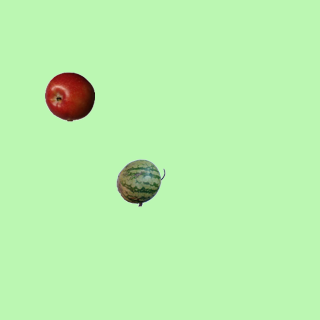Apple Braeburn: (44, 71, 94, 121)
Watermelon: (115, 157, 165, 207)
